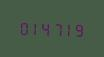four: (40, 19, 50, 36)
nine: (73, 20, 83, 38)
one: (28, 19, 38, 36), (62, 20, 72, 37)
seven: (51, 19, 61, 37)
zero: (17, 18, 27, 36)
